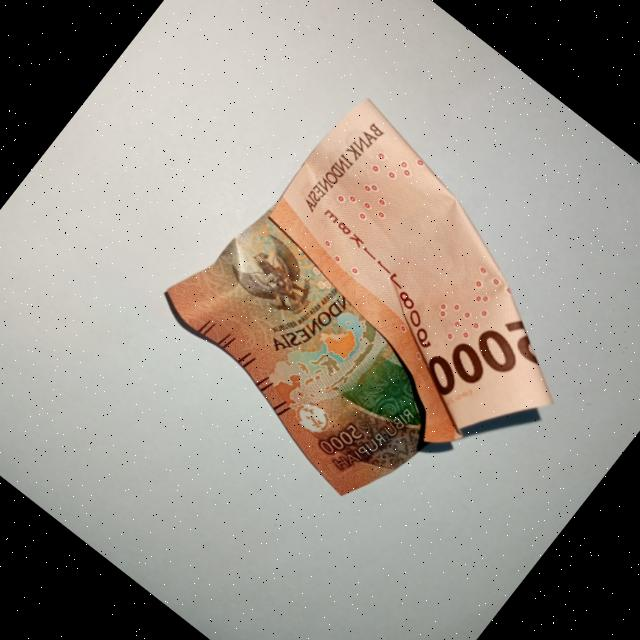5K: (107, 45, 640, 577)
